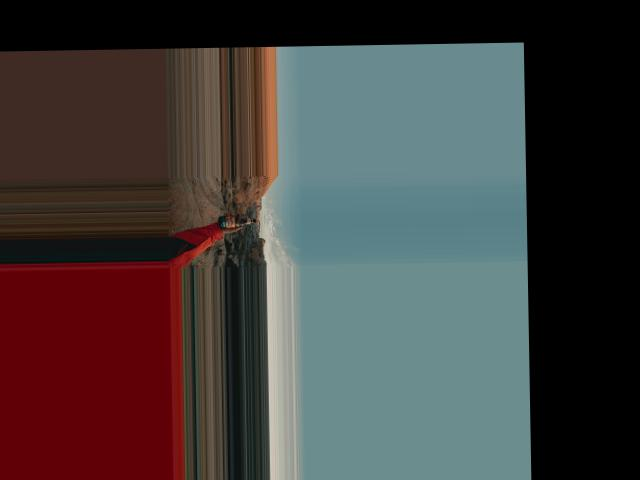beer: (218, 214, 256, 228)
